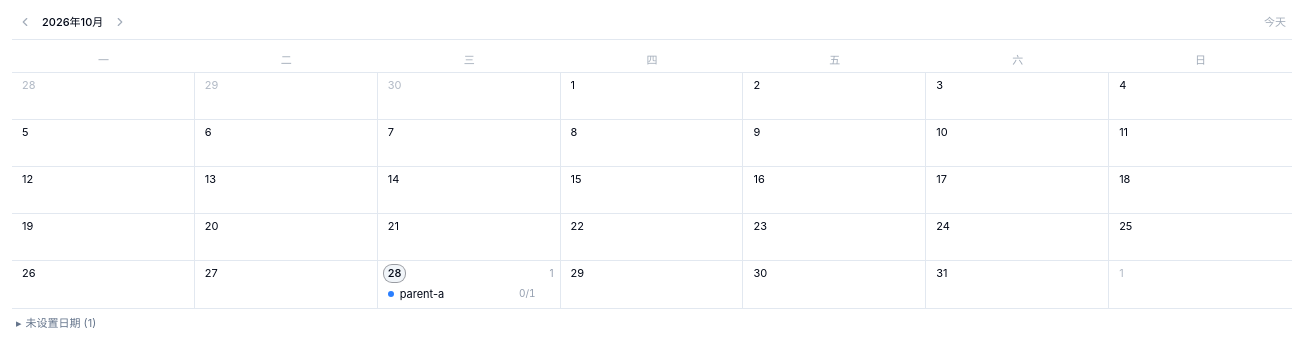
Test: TaskCalendar 子任务浮层入口 › 点 m/n 徽标打开浮层，子任务 chip 仍留在顶层（不去重）
Click the button "0/1". click: click(527, 294)
box: [519,286,536,301]
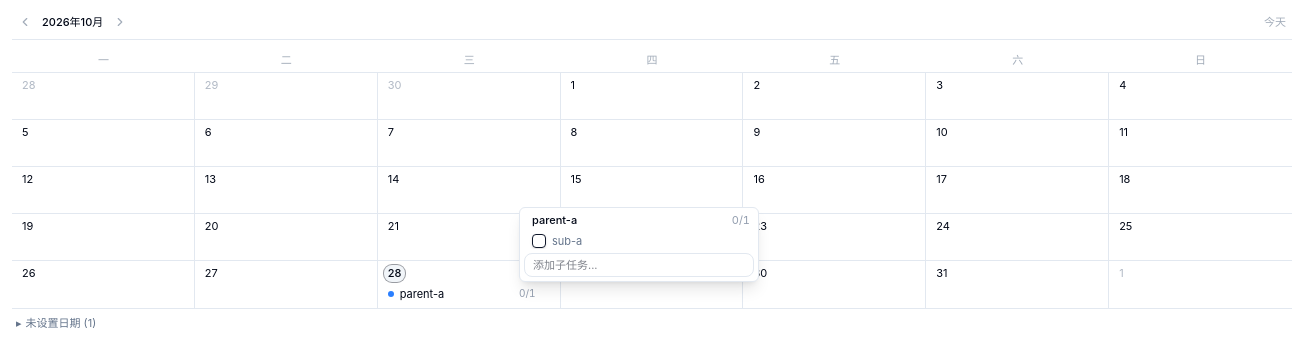
Expected: the text "parent-a" is shown 2 times, [400,286,444,300]; [528,212,581,229]
Result: the field with placeholder "添加子任务..." is shown at [524,253,754,277]
